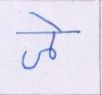o_matra: (46, 17, 61, 59)
